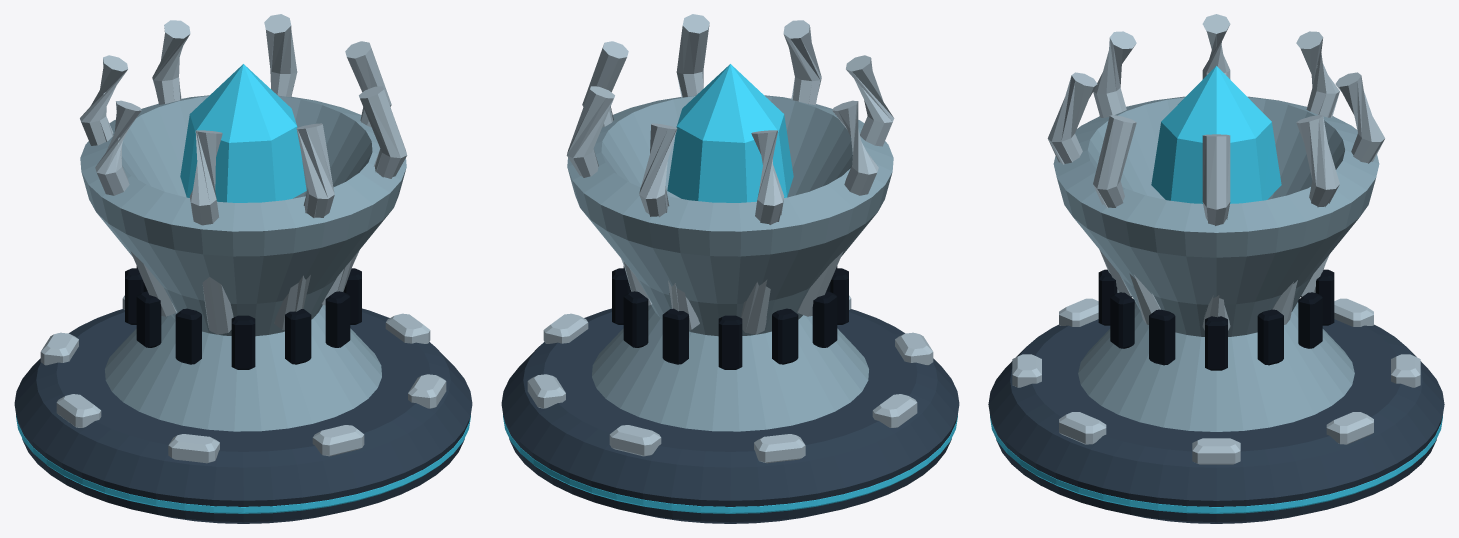
File: firefield.obj
3 renders of one model, left to right at view 1: azimuth 30°, elevation 25°; view 2: azimuth 150°, elevation 25°; view 3: azimuth 270°, elevation 25°, orthographic.
Visible parts, largest first — view 1: firefield; view 2: firefield; view 3: firefield.
Boxes of the visible parts, x1,y1,x2,y2 form: firefield: (14,14,472,523); firefield: (501,14,959,523); firefield: (988,14,1444,523).
Bounding box in the file's own units: 0.294 × 0.27 × 0.294.
